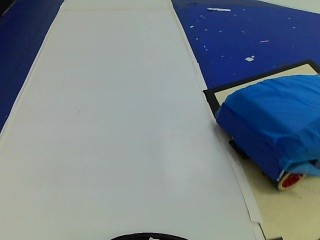car: (211, 69, 320, 197)
